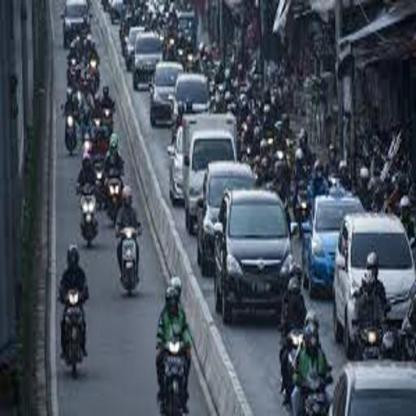car: (210, 191, 295, 321), (329, 210, 415, 314), (196, 158, 256, 254), (298, 187, 350, 272), (152, 61, 182, 115), (131, 31, 159, 79)
motorbike: (57, 281, 96, 378), (160, 328, 194, 414), (112, 223, 150, 292), (287, 372, 336, 415), (357, 318, 397, 358), (78, 182, 98, 246), (277, 327, 301, 369), (100, 165, 122, 208), (62, 109, 80, 151)
